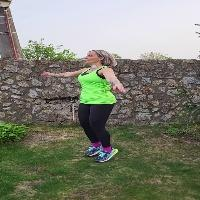jumping_jacks: (34, 41, 146, 173)
